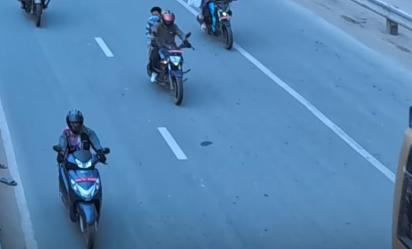scooter: (50, 141, 115, 249)
